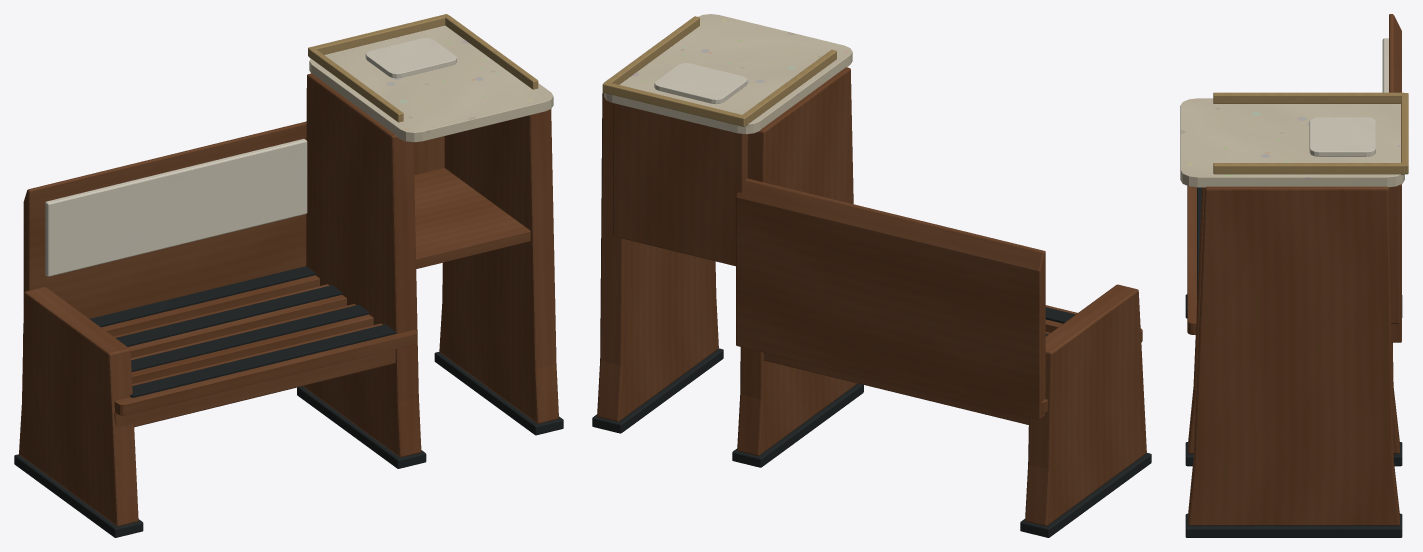
File: AST-GST-003.glb
3 renders of one model, left to right at view 1: azimuth 30°, elevation 25°; view 2: azimuth 150°, elevation 25°; view 3: azimuth 270°, elevation 25°, orthographic. The views are drawn at different scales.
Parts seen in each view (by area): view 1: AST-GST-003__warm_walnut, AST-GST-003__ivory_enamel, AST-GST-003__dark_rubber, AST-GST-003__warm_stone, AST-GST-003__champagne_metal; view 2: AST-GST-003__warm_walnut, AST-GST-003__warm_stone, AST-GST-003__dark_rubber, AST-GST-003__champagne_metal, AST-GST-003__ivory_enamel; view 3: AST-GST-003__warm_walnut, AST-GST-003__warm_stone, AST-GST-003__champagne_metal, AST-GST-003__dark_rubber, AST-GST-003__ivory_enamel.
Boxes of the visible parts, box(x1,y1,x2,y2) form: AST-GST-003__warm_walnut: box(19, 73, 558, 526); AST-GST-003__ivory_enamel: box(45, 37, 456, 276); AST-GST-003__dark_rubber: box(14, 266, 563, 537); AST-GST-003__warm_stone: box(309, 25, 553, 142); AST-GST-003__champagne_metal: box(308, 14, 538, 122); AST-GST-003__warm_walnut: box(597, 67, 1146, 526); AST-GST-003__warm_stone: box(604, 14, 852, 134); AST-GST-003__dark_rubber: box(592, 307, 1151, 537); AST-GST-003__champagne_metal: box(602, 16, 836, 126); AST-GST-003__ivory_enamel: box(654, 63, 747, 103); AST-GST-003__warm_walnut: box(1187, 14, 1401, 525); AST-GST-003__warm_stone: box(1180, 98, 1404, 187); AST-GST-003__champagne_metal: box(1213, 92, 1408, 174); AST-GST-003__dark_rubber: box(1185, 187, 1402, 537); AST-GST-003__ivory_enamel: box(1309, 38, 1388, 156).
Size of the model in its own units: 1.18 by 0.861 by 0.486.
5 materials, 5 textured.
